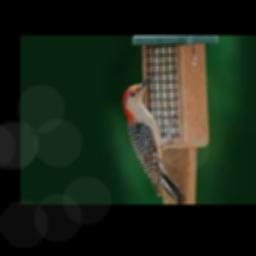Woodpecker: (122, 74, 185, 202)
